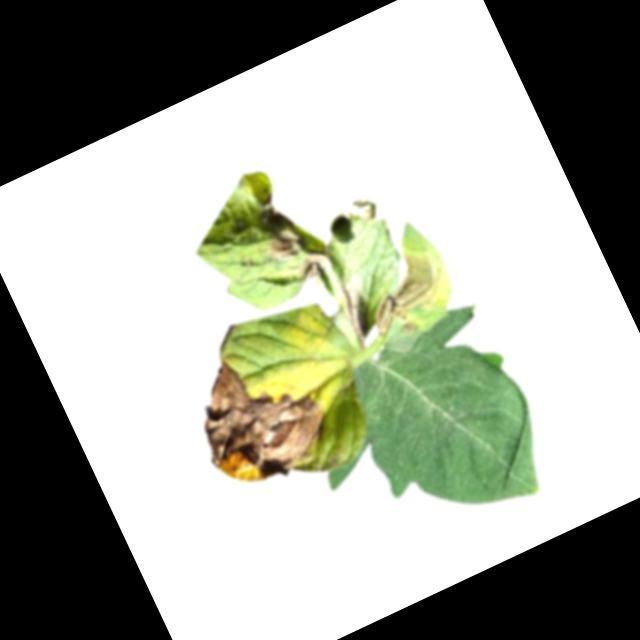Late_blight: (176, 329, 344, 501), (351, 241, 461, 340), (244, 185, 312, 270), (330, 273, 385, 347), (291, 244, 338, 285), (338, 190, 380, 228), (397, 317, 422, 338)
healthy: (281, 292, 565, 572)
